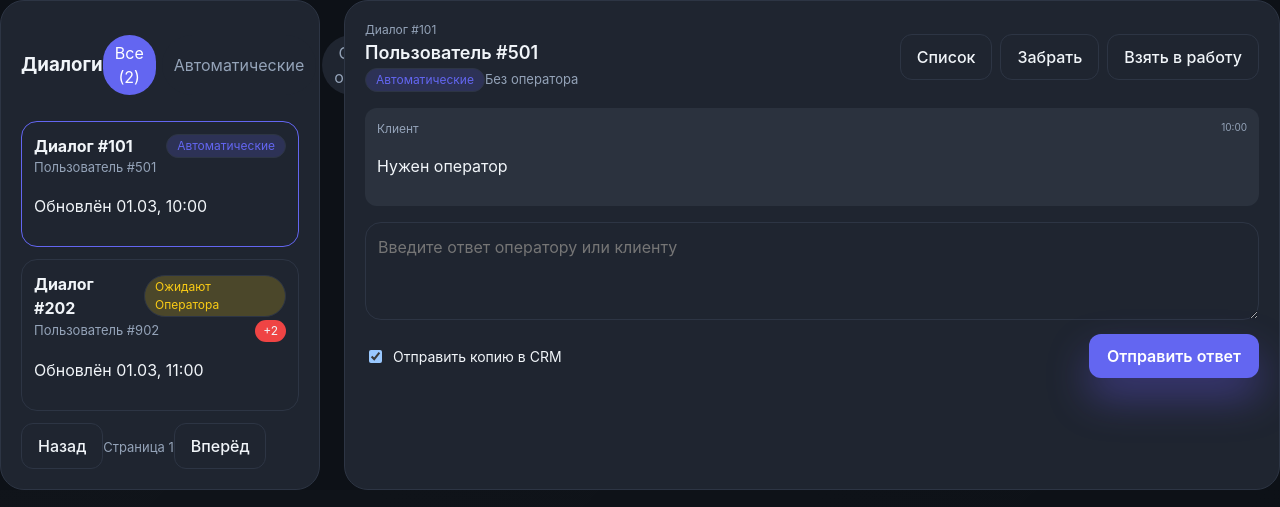
Test: DialogsView › shows error when sending message fails
This screenshot has width=1280, height=507.
Type "Ошибка отправки" into the text box with placeholder "Введите ответ оператору или клиенту" at (812, 271), box [365,222,1259,320]
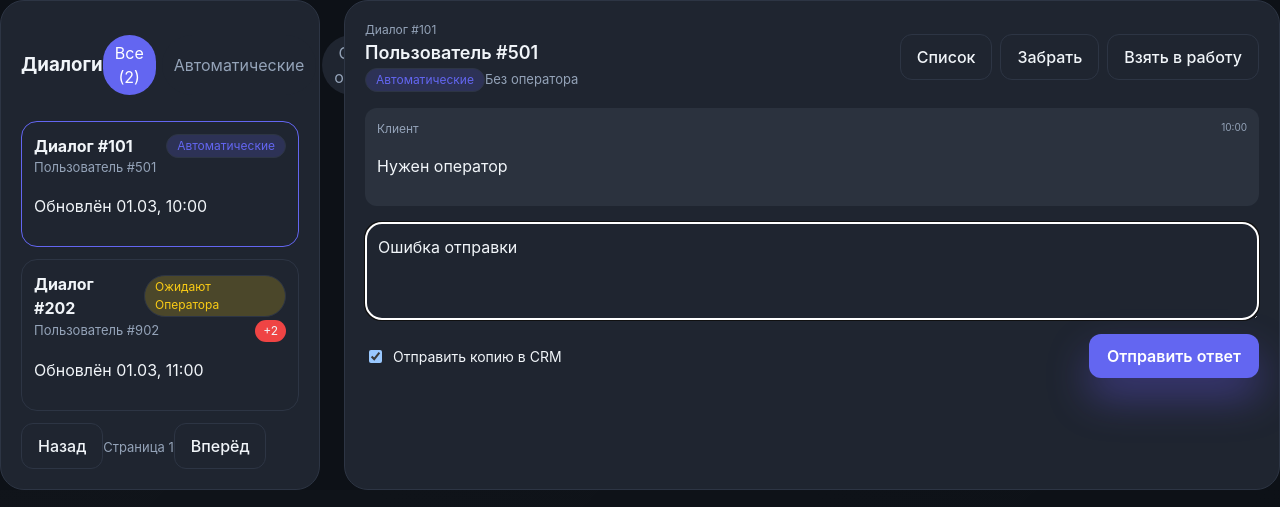
Click the button "Отправить ответ" at (1174, 356), box [1089,334,1259,378]
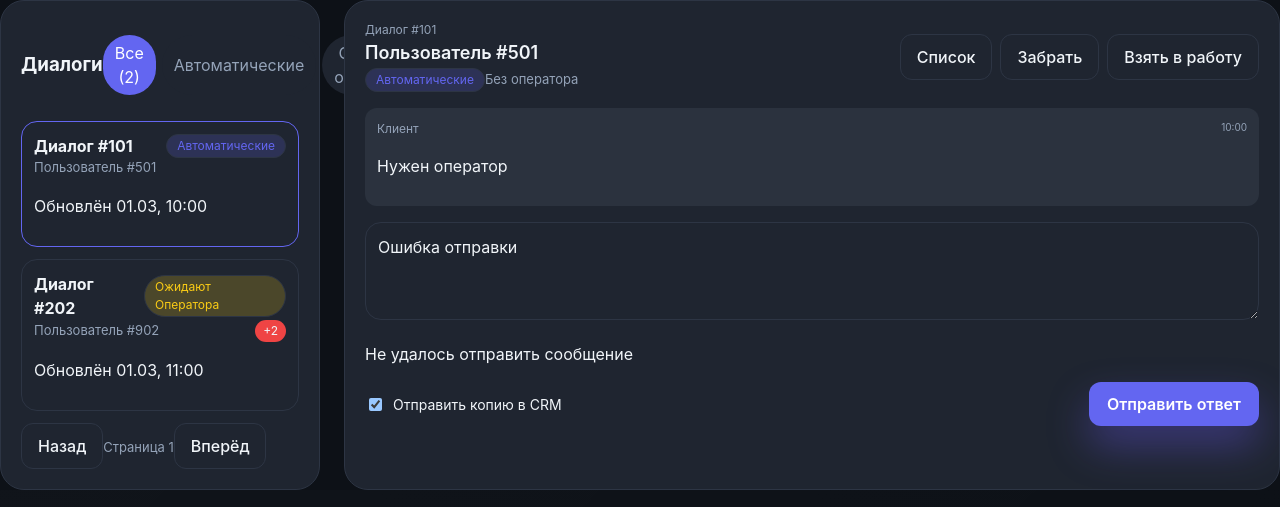
Now the text "Не удалось отправить сообщение" is shown, box [365,344,633,364]
